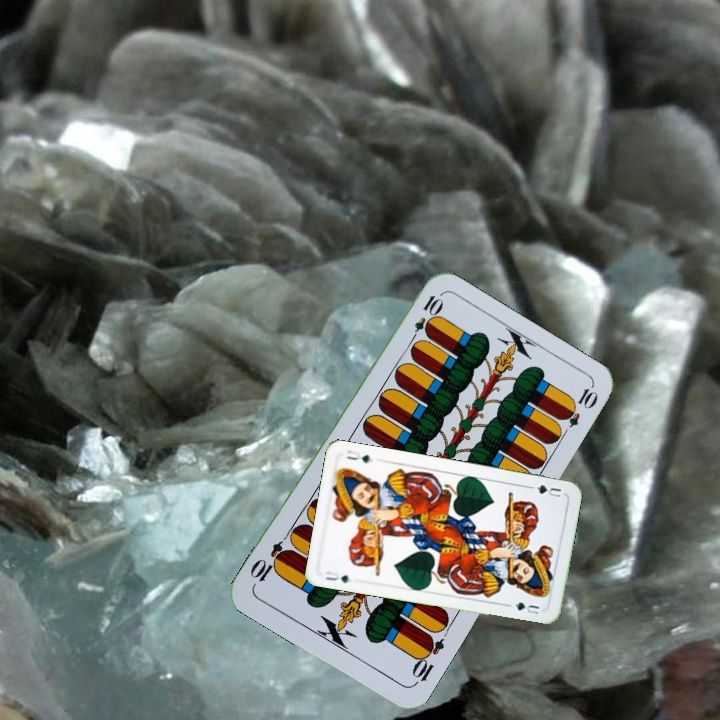E10: (407, 631, 447, 688), (405, 290, 444, 347)
GU: (532, 481, 564, 500), (322, 567, 354, 585)
